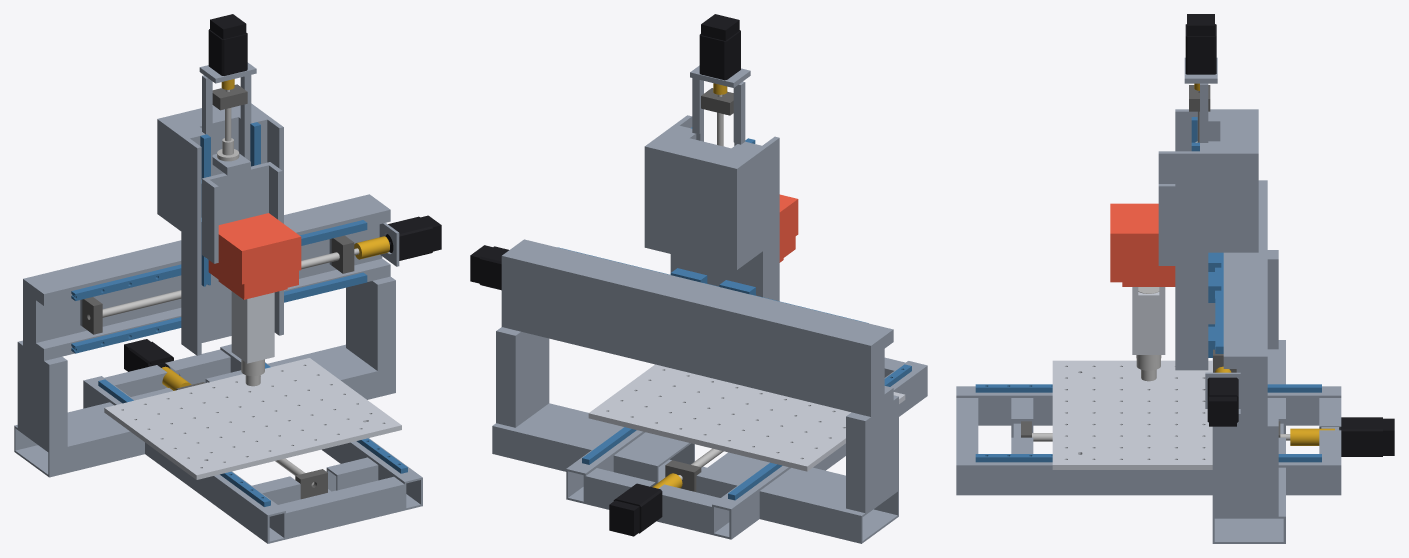
The model's file is A2_center.glb.
The picture shows the model from 3 angles, left to right: view 1: azimuth 30°, elevation 25°; view 2: azimuth 150°, elevation 25°; view 3: azimuth 270°, elevation 25°; orthographic projection. The views are drawn at different scales.
Visible parts, largest first — view 1: table, beam, x_carriage, frame_cross_rear, tooldock_master, z_slide, upright_L, frame_cross_front, frame_longeron_L, upright_R, head_mount, frame_cross_end (+18 smaller); view 2: beam, x_carriage, frame_cross_rear, table, upright_L, upright_R, frame_longeron_L, frame_cross_end, z_motor, y_motor, frame_longeron_R, x_motor (+6 smaller); view 3: table, x_carriage, frame_longeron_R, beam, upright_R, tooldock_master, frame_cross_rear, frame_longeron_L, head_mount, y_motor, z_slide, z_motor (+10 smaller).
Boxes of the visible parts, x1,y1,x2,y2 form: table: (104, 358, 401, 479); beam: (23, 194, 390, 360); x_carriage: (157, 75, 283, 355); frame_cross_rear: (14, 344, 395, 477); tooldock_master: (208, 213, 301, 298); z_slide: (202, 162, 282, 263); upright_L: (17, 340, 67, 451); frame_cross_front: (278, 476, 404, 539); frame_longeron_L: (83, 376, 285, 543); upright_R: (346, 276, 395, 370); head_mount: (231, 291, 274, 363); frame_cross_end: (104, 349, 230, 396); beam: (501, 239, 893, 416); x_carriage: (644, 78, 779, 301); frame_cross_rear: (492, 403, 898, 543); table: (588, 364, 905, 471); upright_L: (846, 395, 898, 513); upright_R: (496, 327, 549, 427); frame_longeron_L: (712, 361, 927, 539); frame_cross_end: (585, 468, 720, 534); z_motor: (699, 14, 740, 80); y_motor: (609, 483, 662, 536); frame_longeron_R: (566, 427, 645, 503); x_motor: (470, 245, 508, 290); table: (1052, 360, 1212, 469); x_carriage: (1175, 83, 1258, 370); frame_longeron_R: (956, 456, 1341, 495); beam: (1223, 180, 1267, 426); upright_R: (1212, 417, 1278, 516); tooldock_master: (1110, 203, 1175, 282); frame_cross_rear: (1212, 340, 1285, 543); frame_longeron_L: (956, 386, 1341, 425); head_mount: (1132, 287, 1165, 354); y_motor: (1340, 417, 1394, 456); z_slide: (1158, 151, 1175, 265); z_motor: (1185, 14, 1216, 74).
Size of the model in its own units: 857 by 875 by 797.
